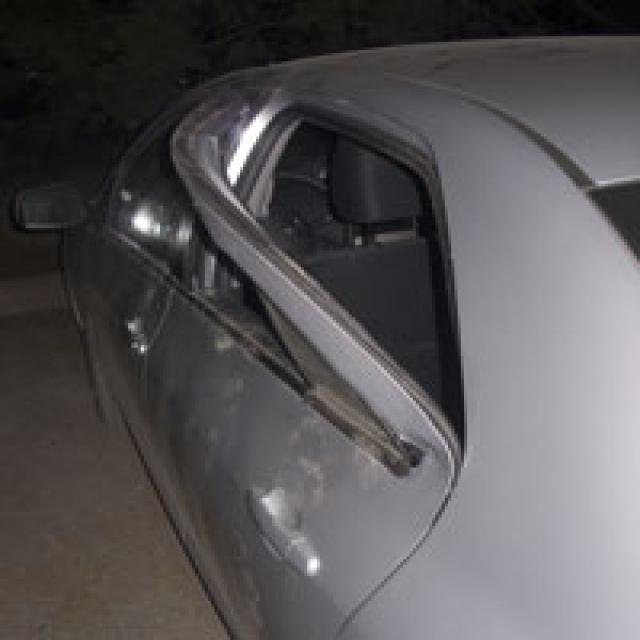crush: (114, 85, 452, 527)
